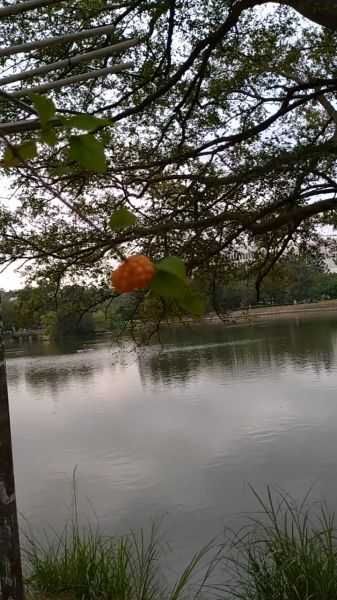eggs: (105, 251, 157, 298)
